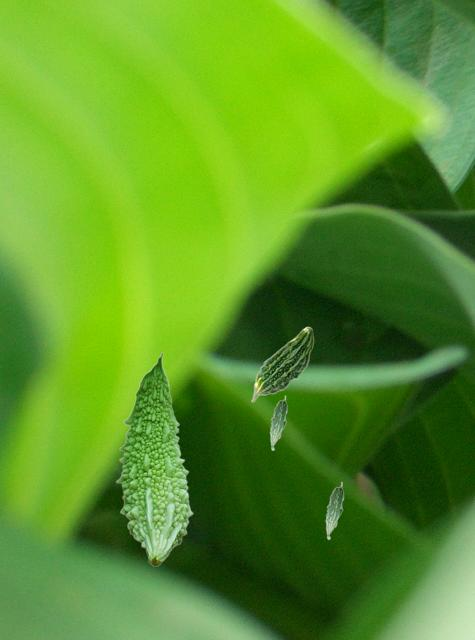ampalaya: (115, 351, 194, 567), (250, 326, 314, 402), (325, 481, 344, 540), (269, 395, 287, 451)
